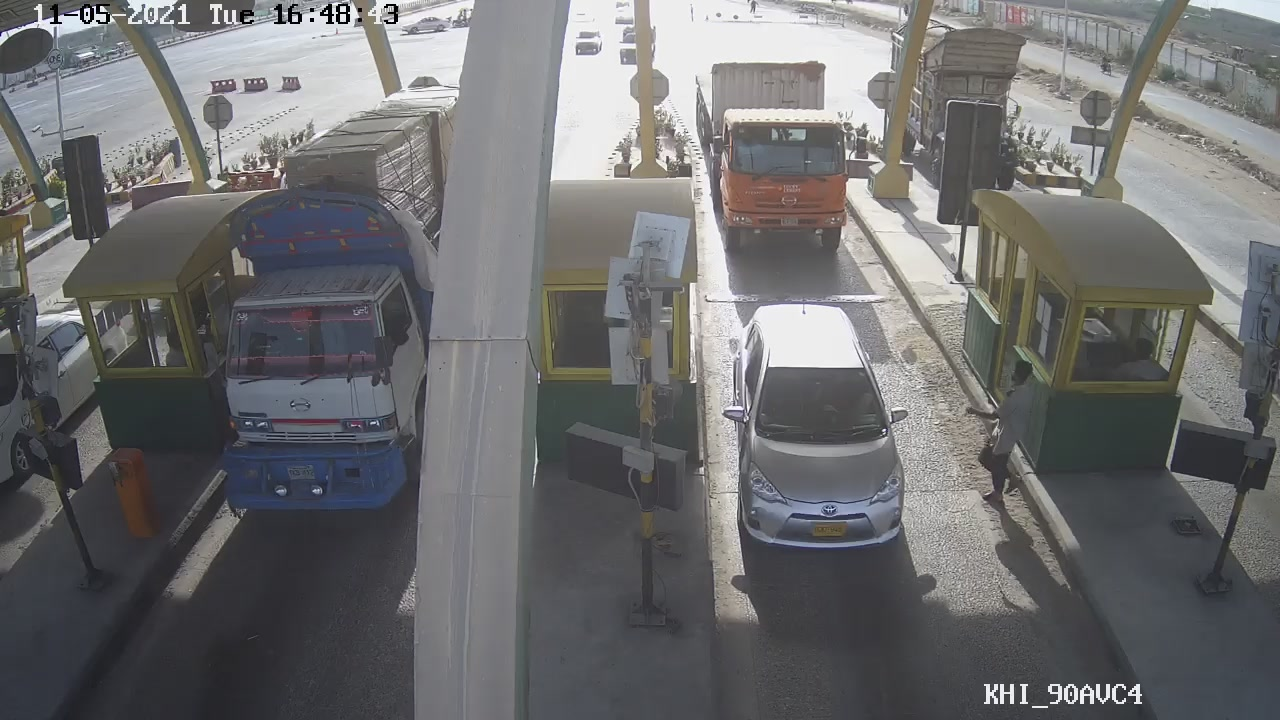F6: (702, 48, 862, 255)
